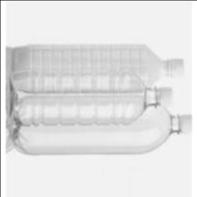bottle: (7, 95, 196, 155), (6, 69, 174, 128), (9, 40, 184, 95)
